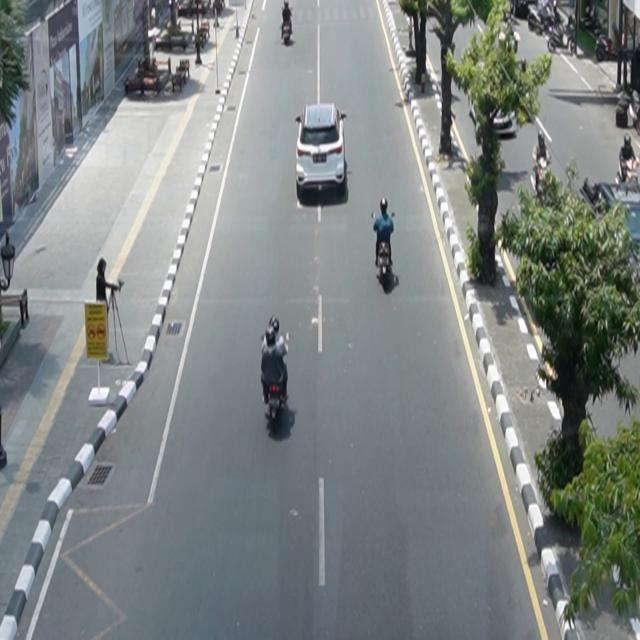car: (295, 103, 348, 196)
